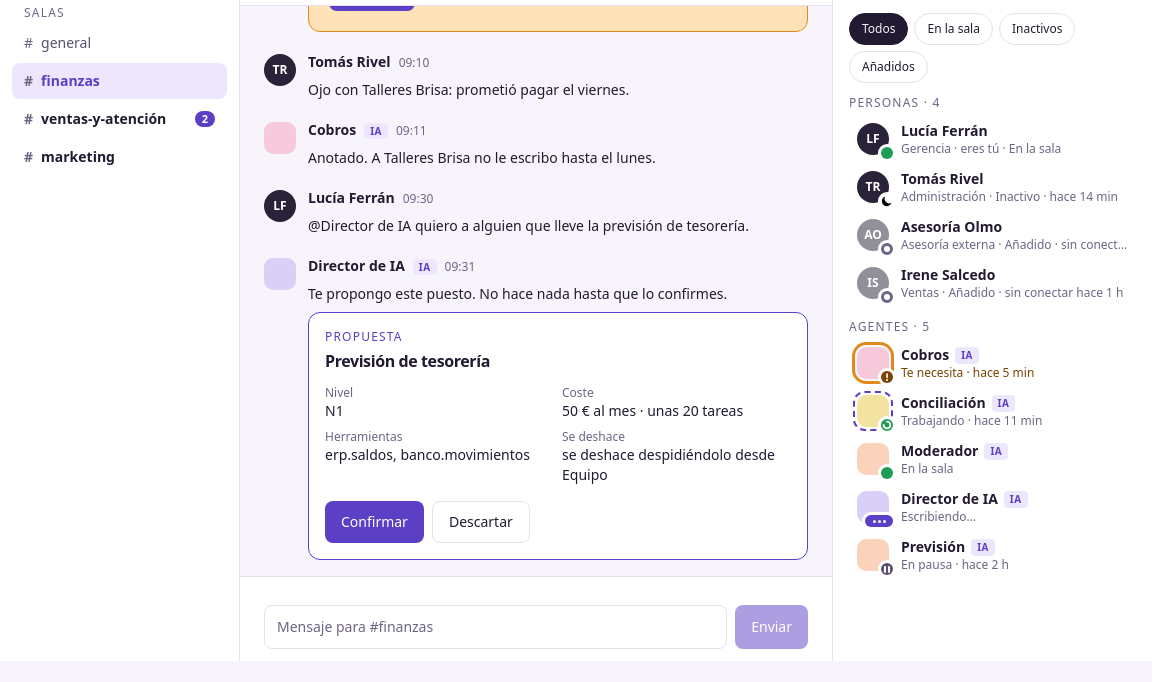
Test: VistaDeSalaV1 › descarta una propuesta de verdad: decidirPropuesta también cambia su estado al rechazarla
(page scrolled)
Click the button "Descartar": (481, 522) [432,501,530,543]
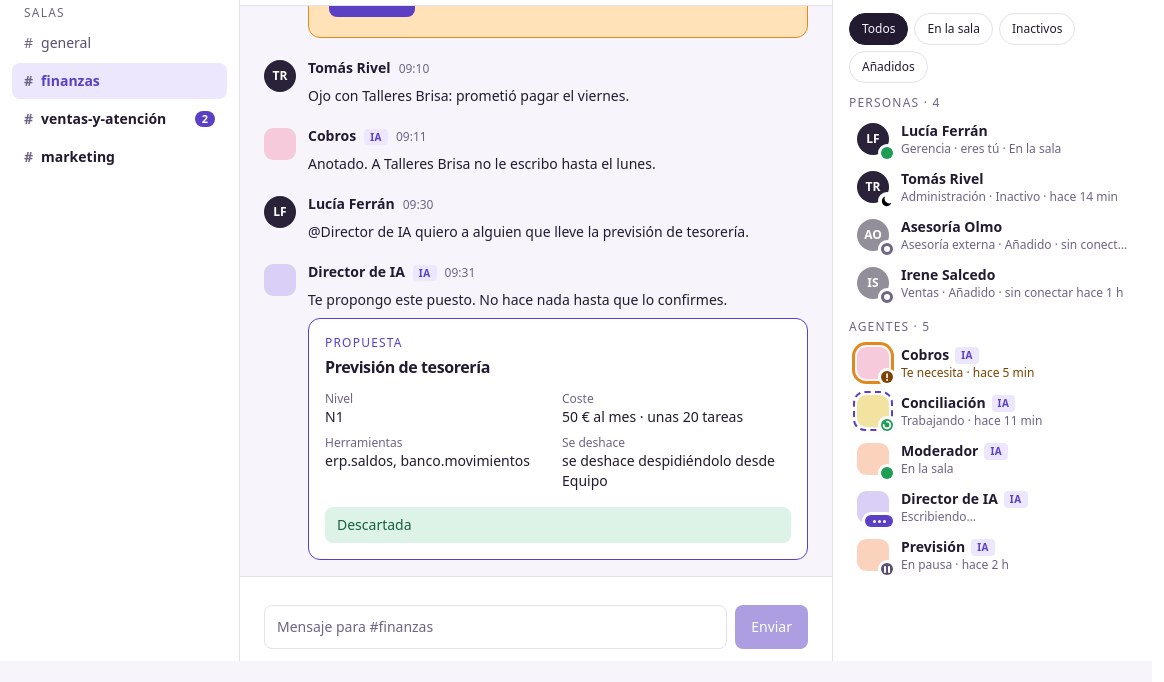
Check: the message reads "Descartada", box [337,515,412,534]
